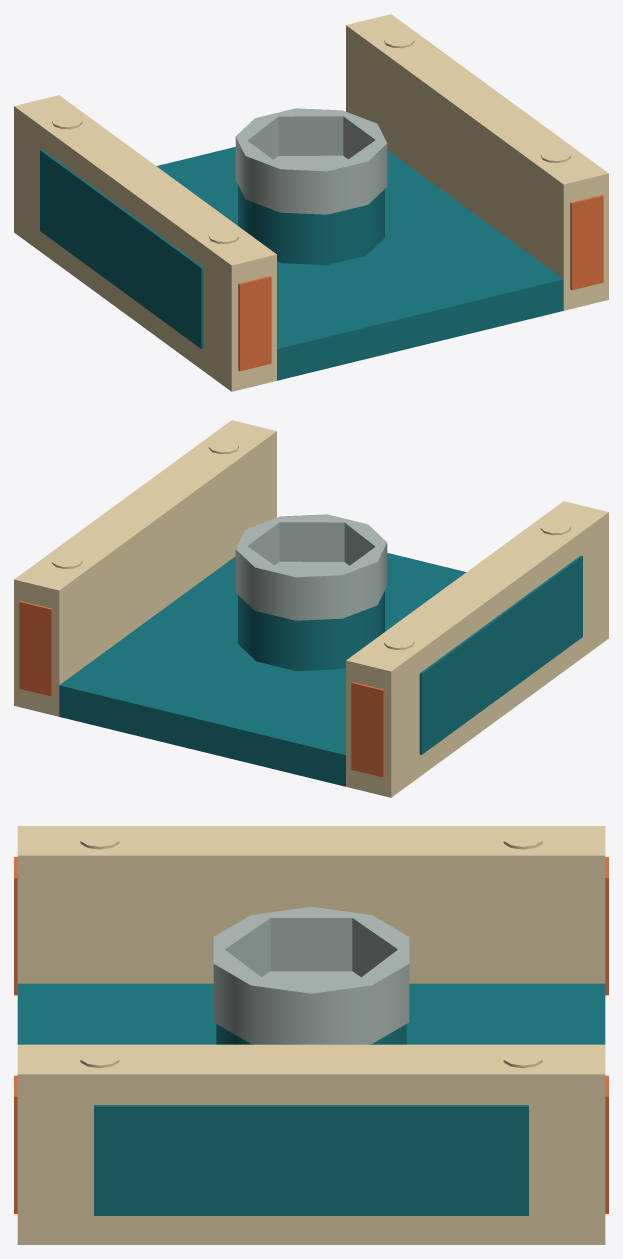
Rendered from cradle-lod-2.glb.
3 views of the same model, one above another, from view 1: azimuth 30°, elevation 25°; view 2: azimuth 150°, elevation 25°; view 3: azimuth 270°, elevation 25° (orthographic). The views are drawn at different scales.
Parts seen in each view (by area): view 1: cradle_lod_2; view 2: cradle_lod_2; view 3: cradle_lod_2.
Part boxes in pixels (left/top/right/bottom): cradle_lod_2: left=14, top=14, right=608, bottom=391; cradle_lod_2: left=14, top=420, right=608, bottom=797; cradle_lod_2: left=14, top=826, right=608, bottom=1244.
Size of the model in its own units: 2.02 by 0.65 by 2.02.
